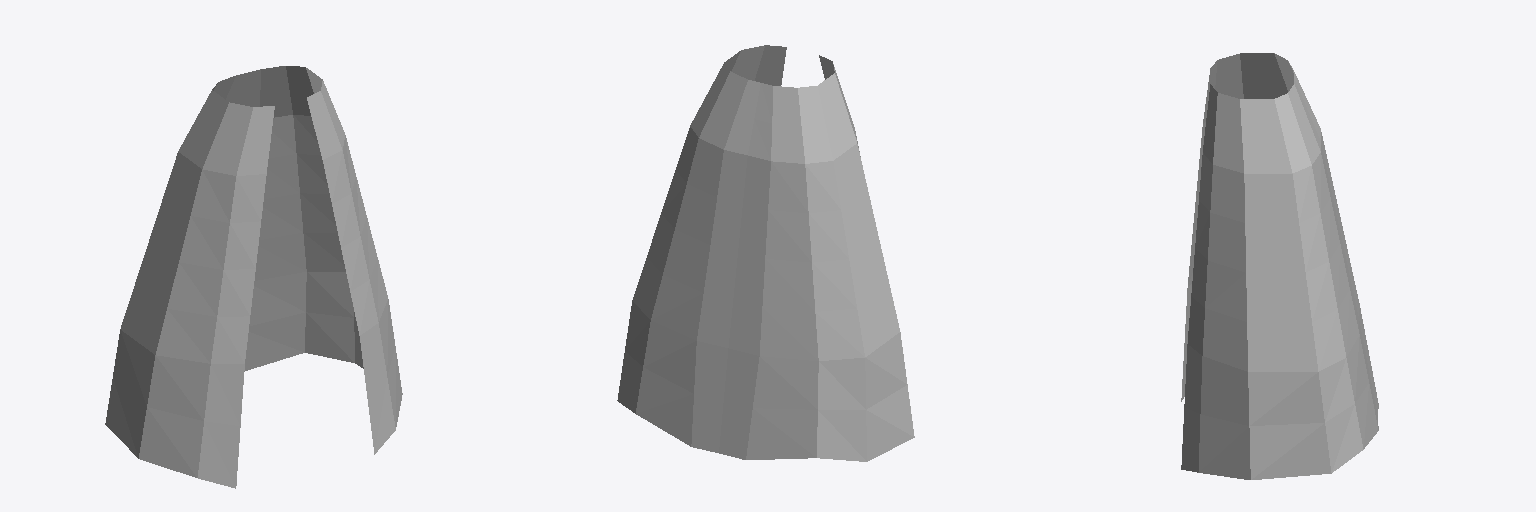
The model's file is player_cloak.obj.
3 views of the same model, side by side, from view 1: azimuth 30°, elevation 25°; view 2: azimuth 150°, elevation 25°; view 3: azimuth 270°, elevation 25° (orthographic).
Visible parts, largest first — view 1: Cloak; view 2: Cloak; view 3: Cloak.
Boxes of the visible parts, box(x1,y1,x2,y2) form: Cloak: box(105, 66, 402, 488); Cloak: box(617, 45, 914, 461); Cloak: box(1181, 53, 1378, 479).
Bounding box in the file's own units: 0.6751 × 0.8782 × 0.4371.